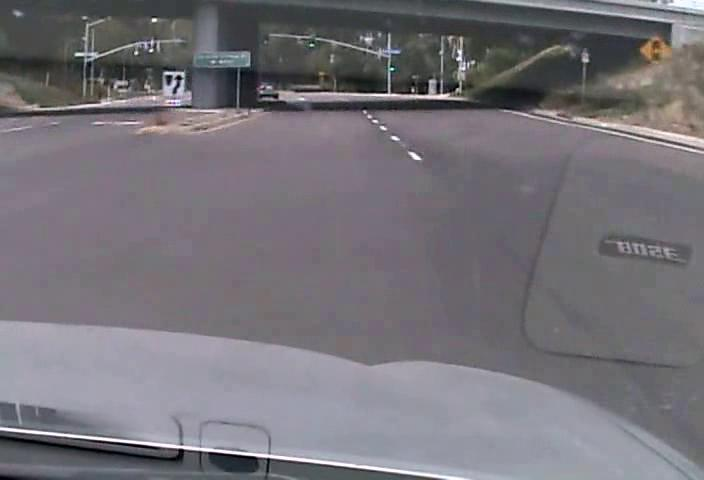signalAhead: (638, 33, 673, 66)
